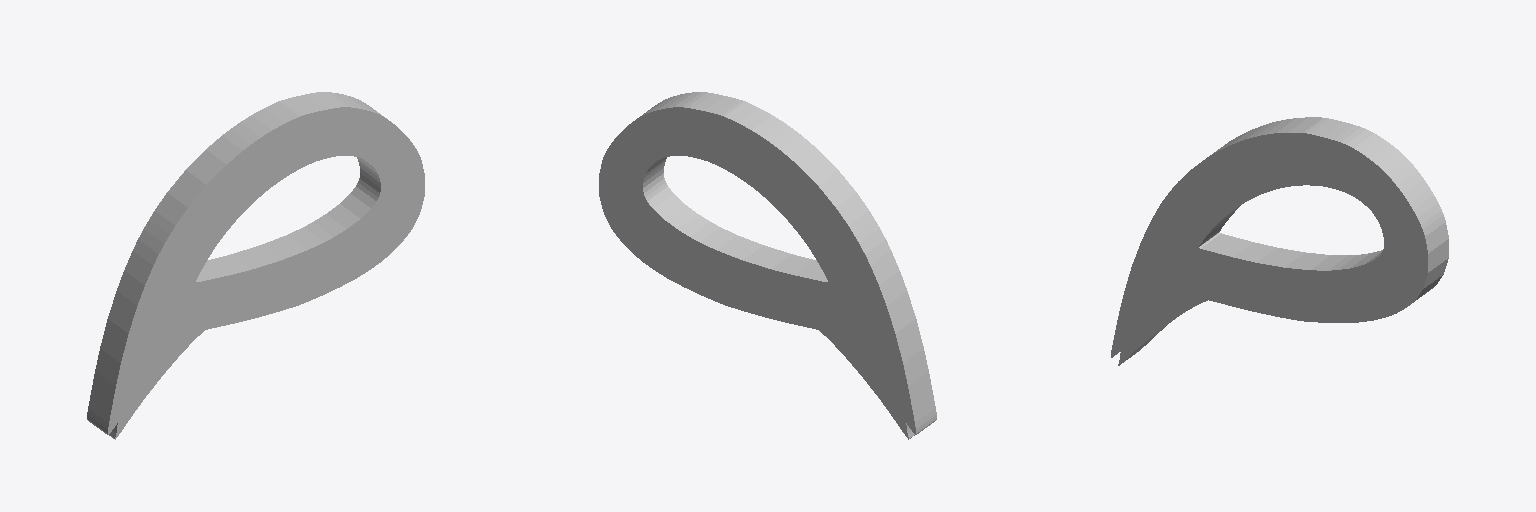
The model's file is parkzone.obj.
3 views of the same model, side by side, from view 1: azimuth 30°, elevation 25°; view 2: azimuth 150°, elevation 25°; view 3: azimuth 330°, elevation 25° (orthographic).
Parts seen in each view (by area): view 1: ParkZone_logo_noFont_(1); view 2: ParkZone_logo_noFont_(1); view 3: ParkZone_logo_noFont_(1).
Part boxes in pixels (bbox=[...]): ParkZone_logo_noFont_(1): bbox=[87, 92, 424, 439]; ParkZone_logo_noFont_(1): bbox=[599, 92, 936, 439]; ParkZone_logo_noFont_(1): bbox=[1111, 117, 1448, 365].
Size of the model in its own units: 13.18 by 11.07 by 1.5.